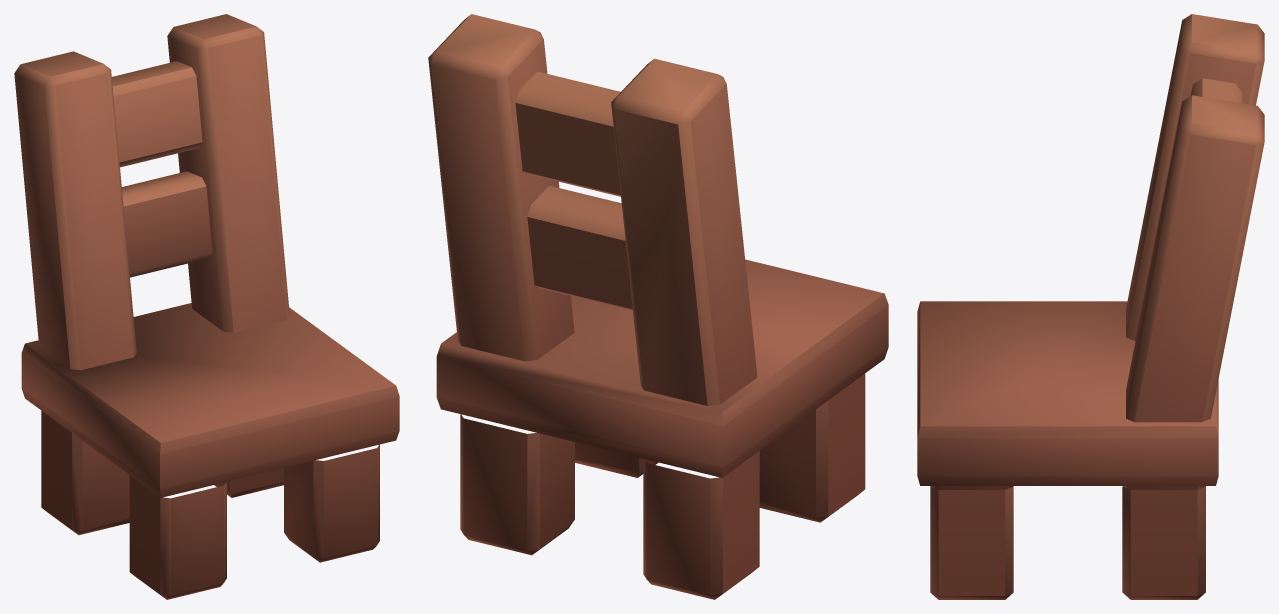
The model's file is cc0-chair-wood-lod1.glb.
3 renders of one model, left to right at view 1: azimuth 30°, elevation 25°; view 2: azimuth 150°, elevation 25°; view 3: azimuth 270°, elevation 25°, orthographic. The views are drawn at different scales.
Parts seen in each view (by area): view 1: part_0; view 2: part_0; view 3: part_0.
Part boxes in pixels (x1=…): part_0: x1=14, y1=14, x2=399, y2=599; part_0: x1=428, y1=14, x2=888, y2=599; part_0: x1=917, y1=14, x2=1264, y2=599.
Bounding box in the file's own units: 0.7207 × 1.26 × 0.8305.
1 material, 1 textured.
